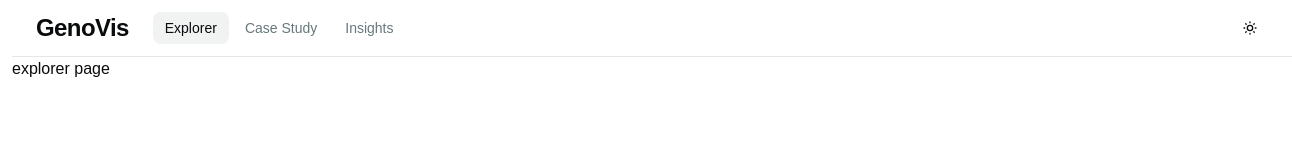
Test case: DashboardLayout › navigates between pages from the nav
Click the link "Insights" at (369, 28), box left=345, top=20, right=394, bottom=36
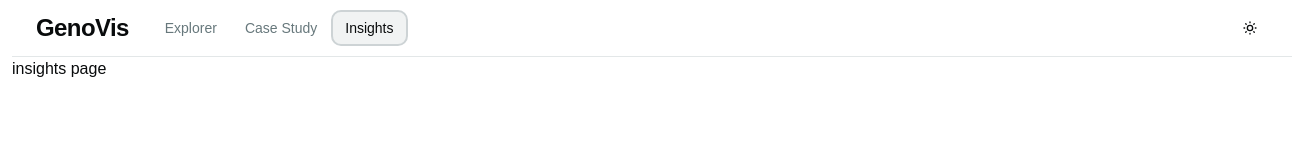
Check: the text "insights page" is shown, box left=12, top=60, right=106, bottom=77
